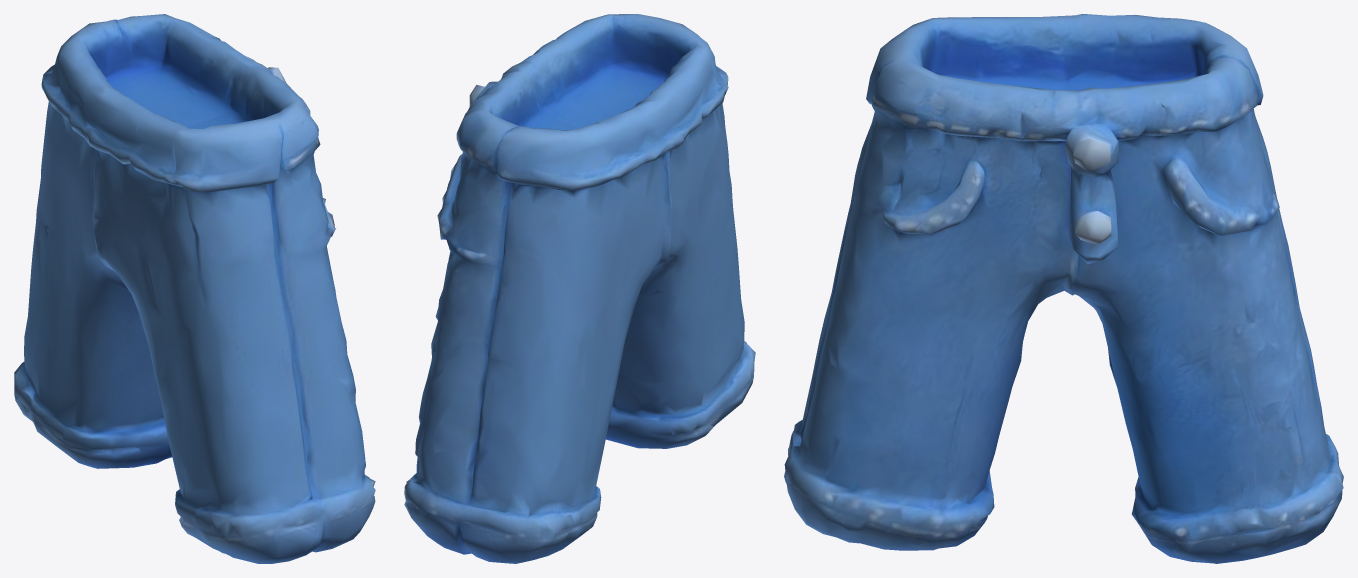
Rendered from jeans.glb.
3 views of the same model, side by side, from view 1: azimuth 30°, elevation 25°; view 2: azimuth 150°, elevation 25°; view 3: azimuth 270°, elevation 25° (orthographic). The views are drawn at different scales.
Visible parts, largest first — view 1: tripo_node_235f0910-076f-431a-993d-0b15d1424823; view 2: tripo_node_235f0910-076f-431a-993d-0b15d1424823; view 3: tripo_node_235f0910-076f-431a-993d-0b15d1424823.
Part boxes in pixels (x1,y1,x2,y2): tripo_node_235f0910-076f-431a-993d-0b15d1424823: (14,14,375,563); tripo_node_235f0910-076f-431a-993d-0b15d1424823: (404,14,755,563); tripo_node_235f0910-076f-431a-993d-0b15d1424823: (784,14,1343,563).
Size of the model in its own units: 0.4834 by 0.9723 by 1.
1 material, 1 textured.
